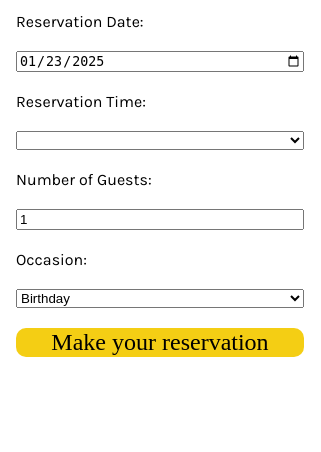
it: Date Validation › Required date validation
The width and height of the screenshot is (321, 452).
Clear the date field labelled "Reservation Date:": (160, 62) [16,51,304,72]
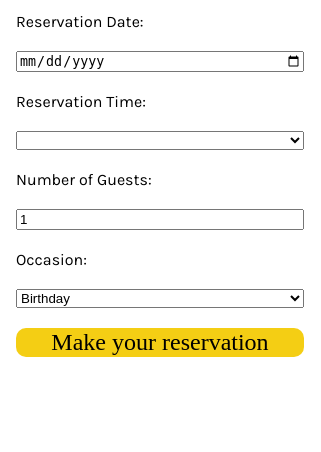
Click the button "Make your reservation": (160, 343) [16,328,304,357]
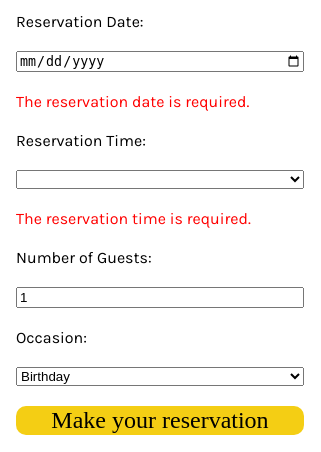
Now the text "The reservation date is required." is shown, box [16,92,249,111]
